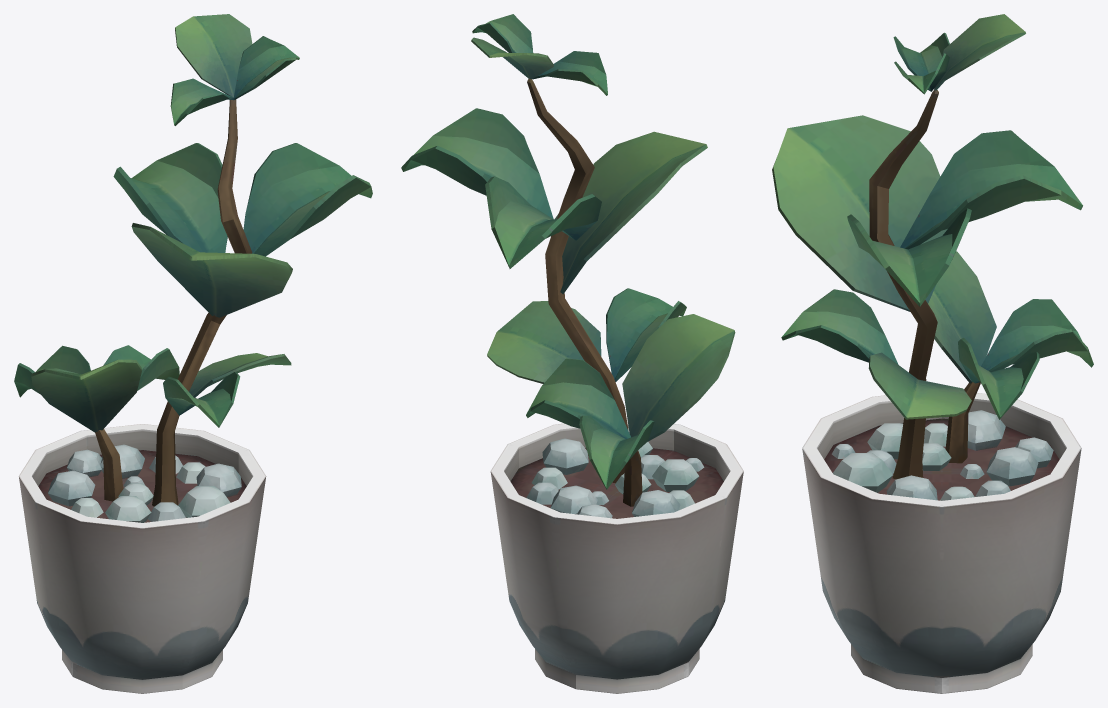
The model's file is my_hyakkiyako_01_plantpot_01.glb.
3 views of the same model, side by side, from view 1: azimuth 30°, elevation 25°; view 2: azimuth 150°, elevation 25°; view 3: azimuth 270°, elevation 25° (orthographic). The views are drawn at different scales.
Parts seen in each view (by area): view 1: my_hyakkiyako_01_plantpot_01; view 2: my_hyakkiyako_01_plantpot_01; view 3: my_hyakkiyako_01_plantpot_01.
Boxes of the visible parts, box(x1,y1,x2,y2) form: my_hyakkiyako_01_plantpot_01: box(14, 14, 372, 693); my_hyakkiyako_01_plantpot_01: box(401, 14, 743, 693); my_hyakkiyako_01_plantpot_01: box(772, 14, 1093, 693).
Size of the model in its own units: 0.00388 by 0.00676 by 0.00292.
1 material, 1 textured.
